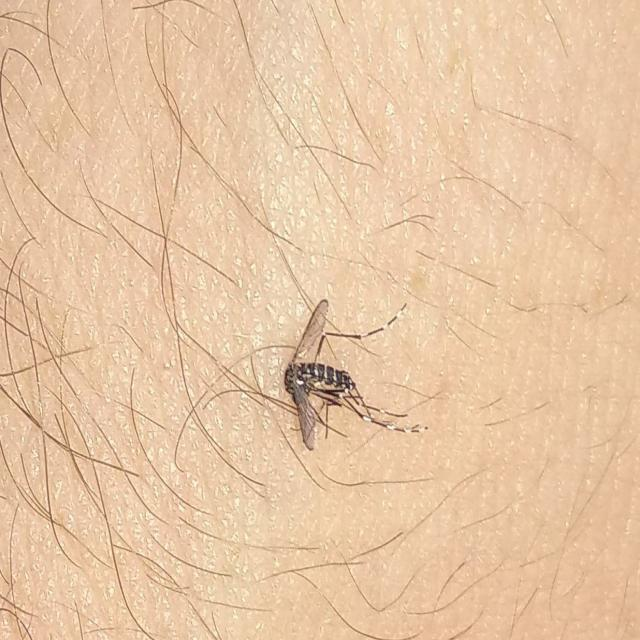albopictus: (87, 18, 464, 544)
